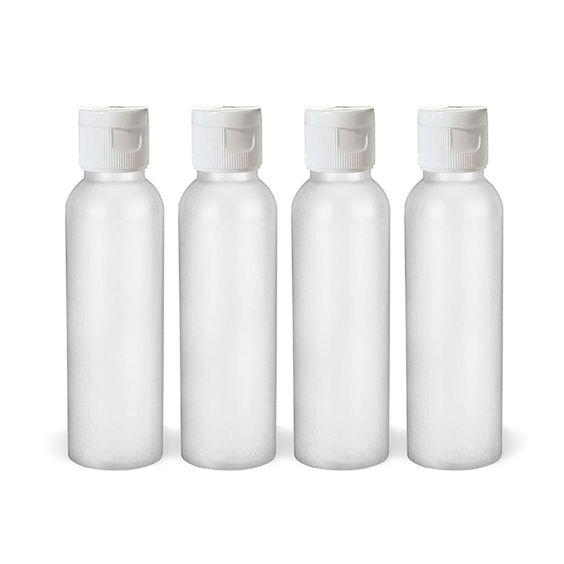HDPE: (64, 172, 165, 471), (404, 174, 504, 471), (178, 172, 277, 470), (292, 171, 390, 471), (417, 105, 489, 173), (303, 105, 376, 172), (78, 105, 150, 172), (192, 105, 261, 172)
